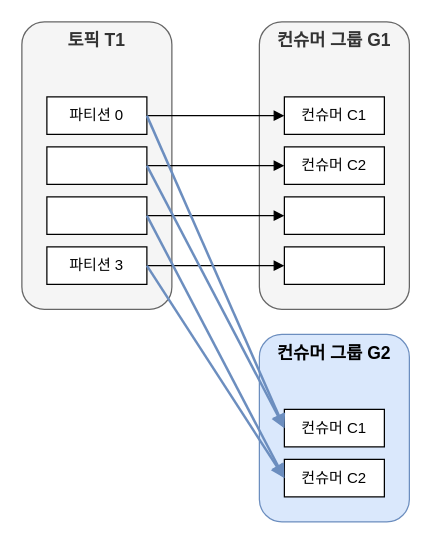
The diagram is 431 pixels wide and 544 high, and some of its shapes have lost their labels. The centre of each missing label's shape, as x and y in pixels:
"컨슈머 C3" goes at pixel 333 215.
"컨슈머 C4" goes at pixel 333 265.
"파티션 1" goes at pixel 96 165.
"파티션 2" goes at pixel 96 215.
